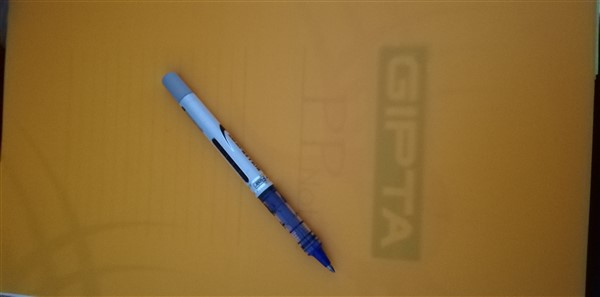pilot kalem: (159, 69, 338, 278)
